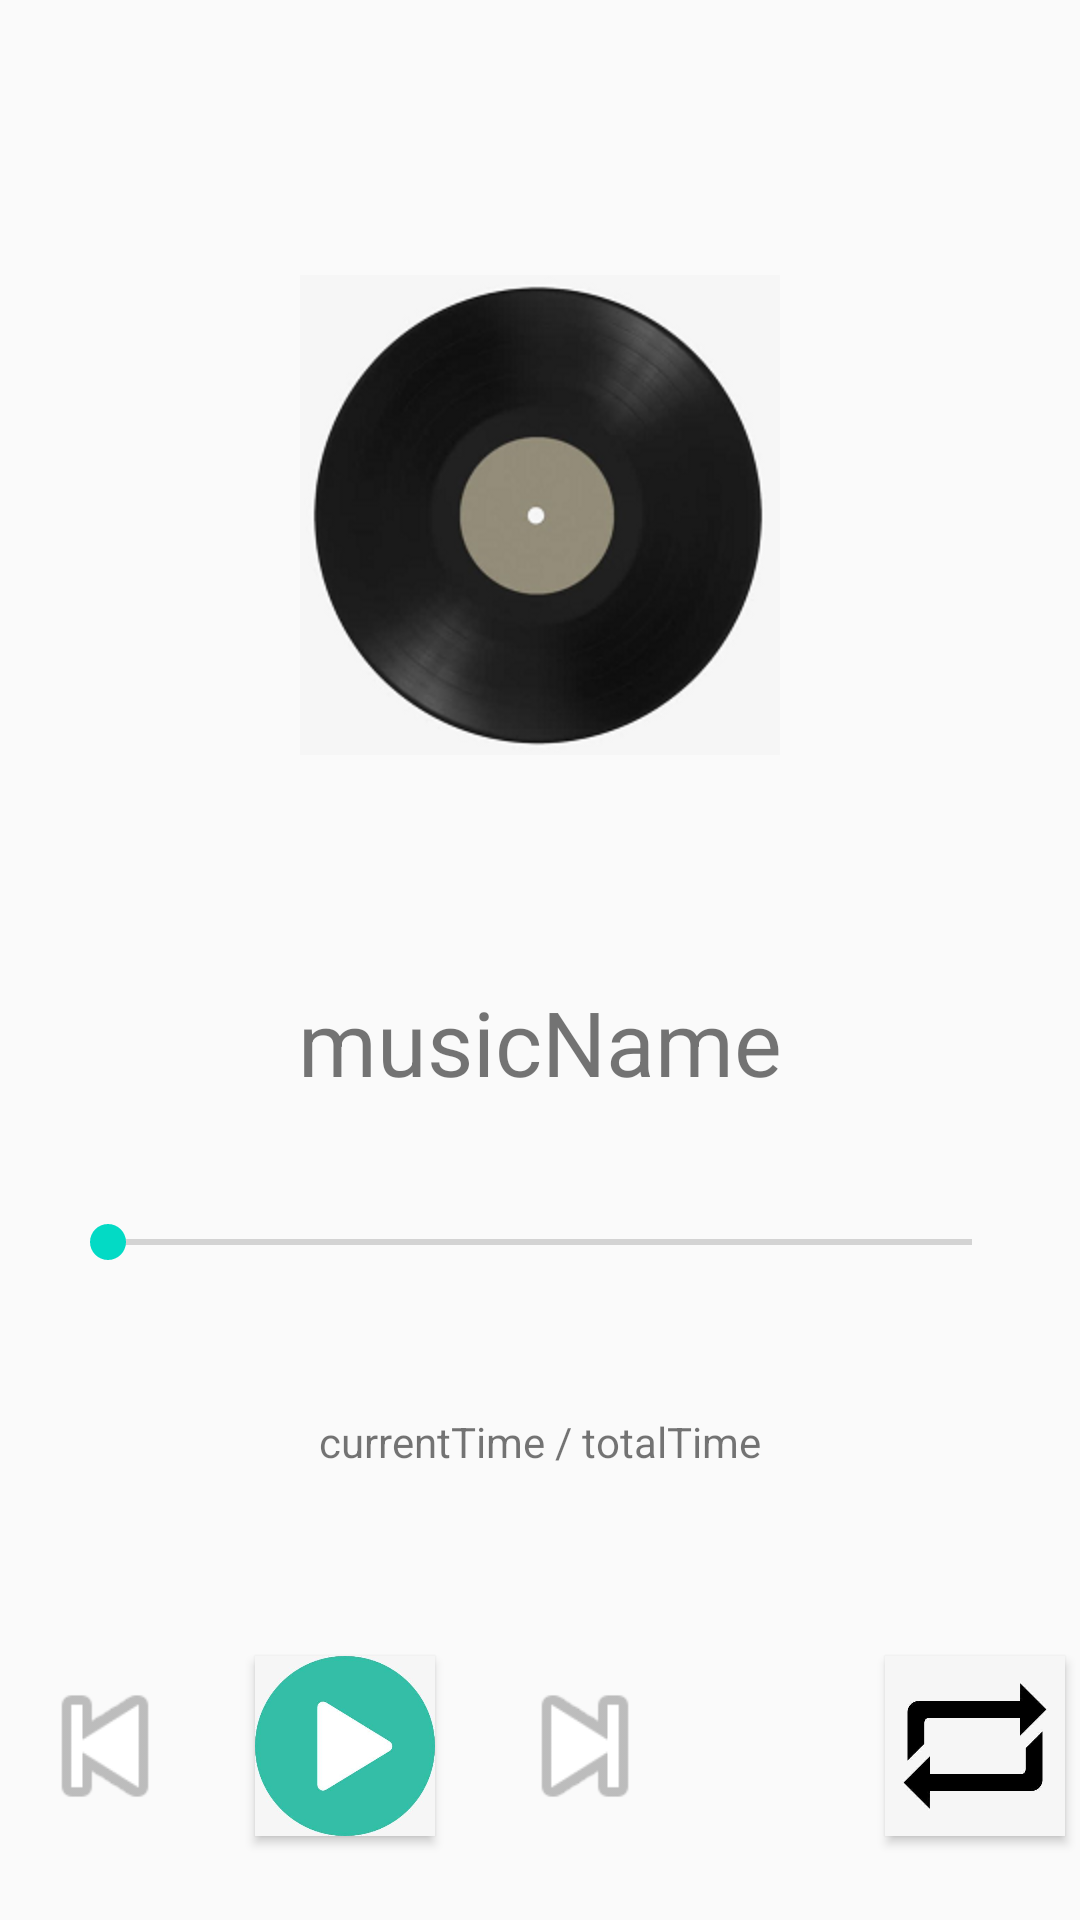

Icons on this 1080px x 1920px Android screen, each with the point to tap as [x,y]:
loop: [975,1746]
next: [585,1746]
play: [345,1746]
previous: [105,1746]
